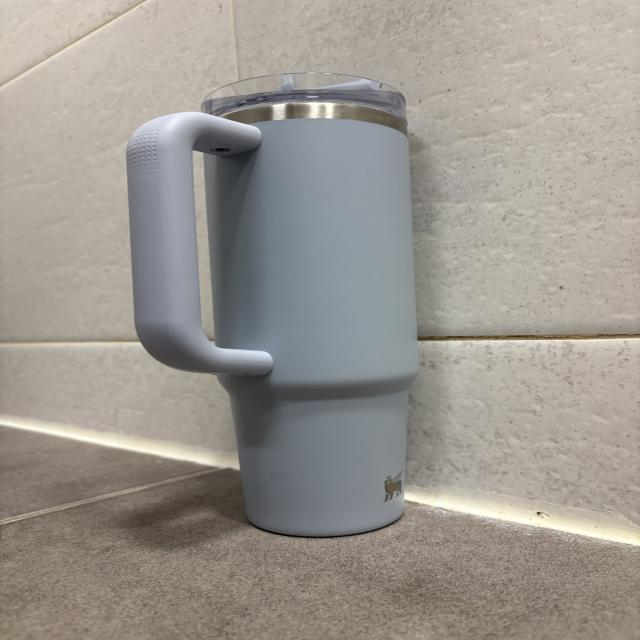waterbottle: (130, 72, 418, 537)
